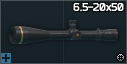Leupold Mark 4 LR 6.5-20x50 riflescope: (0, 0, 127, 64)
